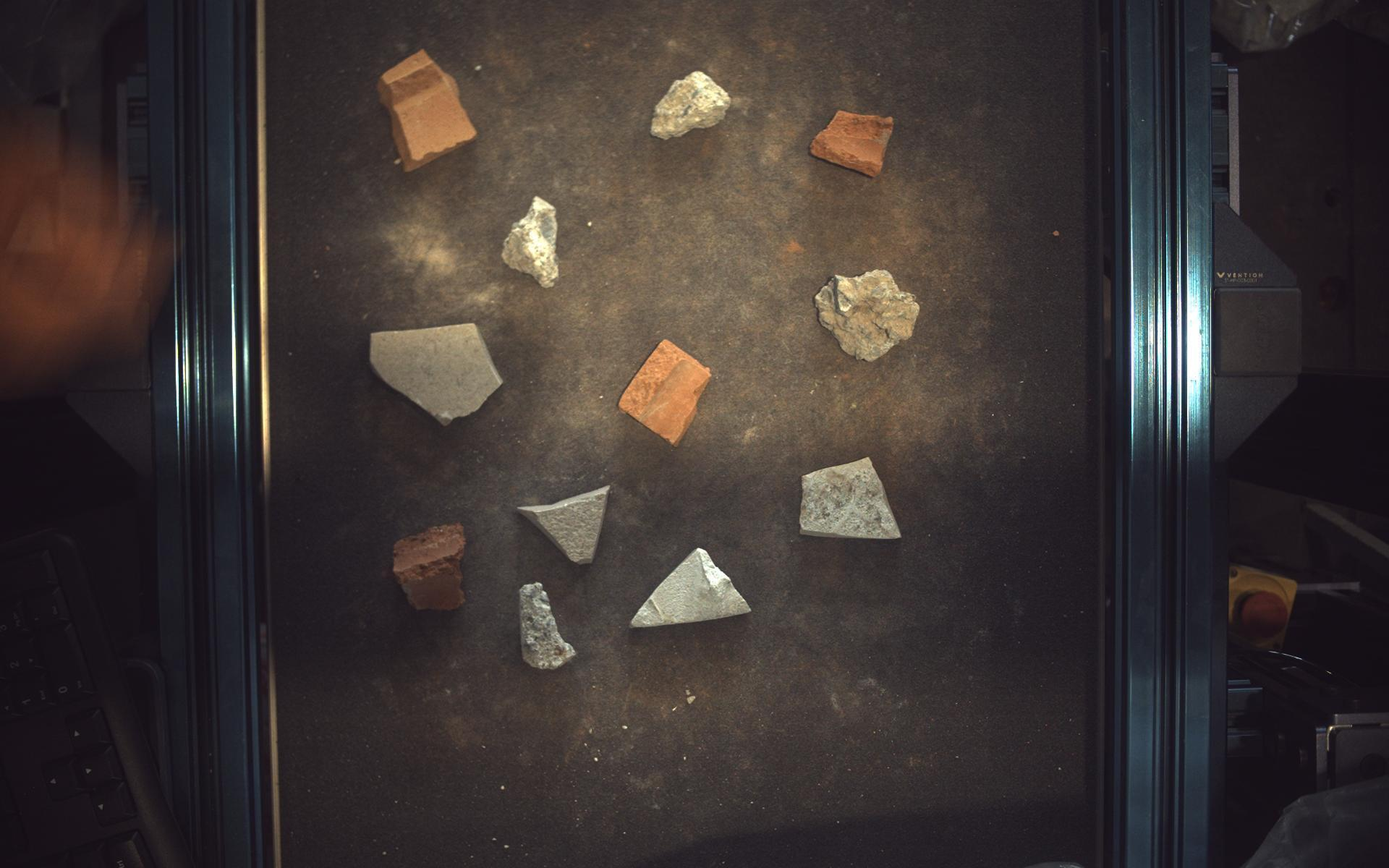brick: (378, 48, 477, 171), (619, 339, 712, 446), (393, 524, 465, 611), (812, 110, 895, 176)
concrete: (817, 269, 921, 361), (651, 70, 731, 139), (502, 196, 559, 287), (519, 584, 577, 671)
tile: (369, 323, 503, 425), (632, 549, 752, 629), (801, 458, 903, 540), (518, 487, 611, 565)
